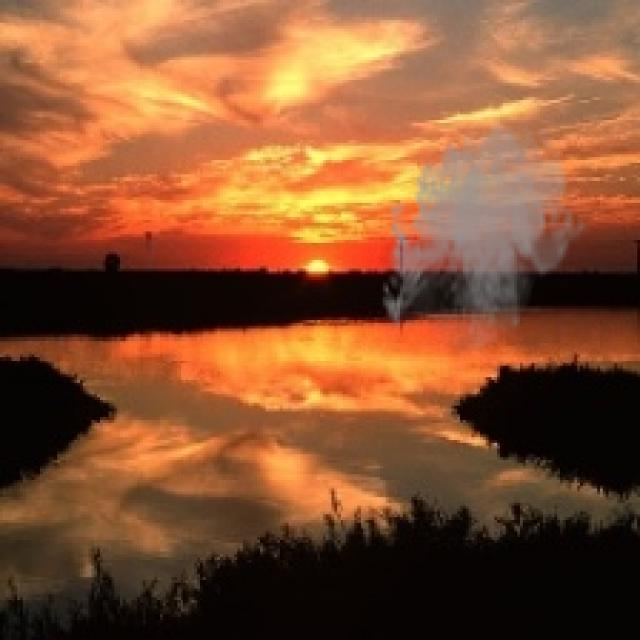smoke: (377, 114, 589, 360)
